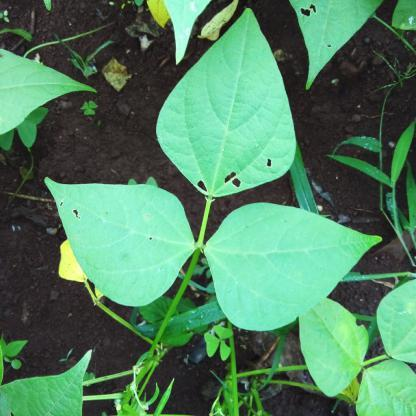Beans_Angular_LeafSpot: (162, 9, 294, 195), (44, 179, 193, 307), (291, 0, 382, 84)
